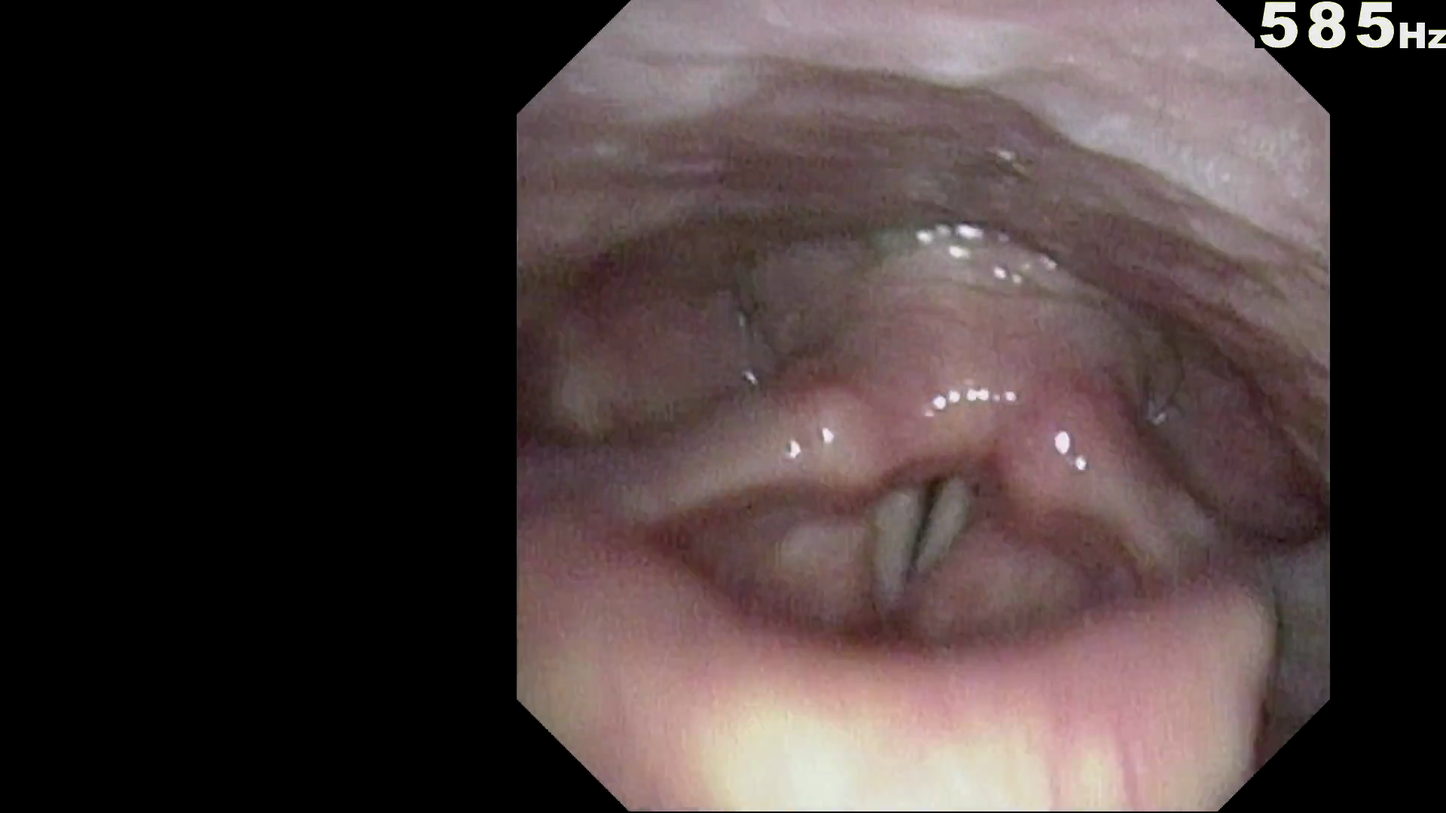epiglottis: (620, 545, 1233, 788)
trachea: (845, 480, 951, 600)
